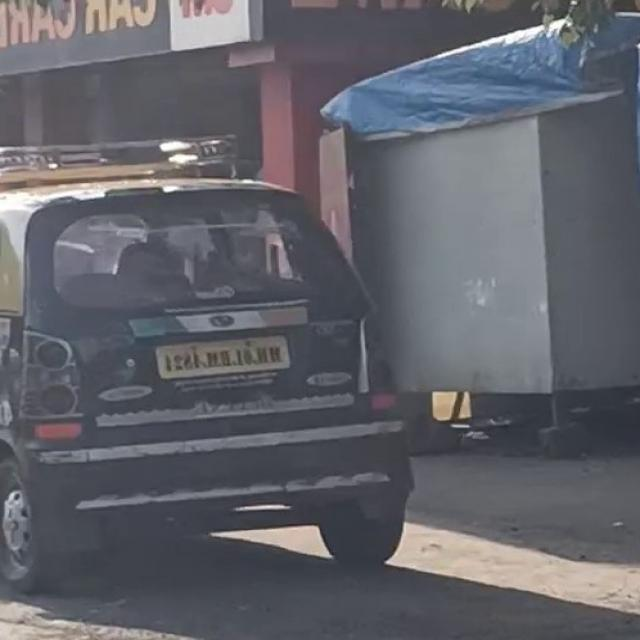license_plate: (148, 326, 298, 389)
